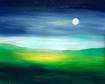moon: (71, 17, 81, 27)
